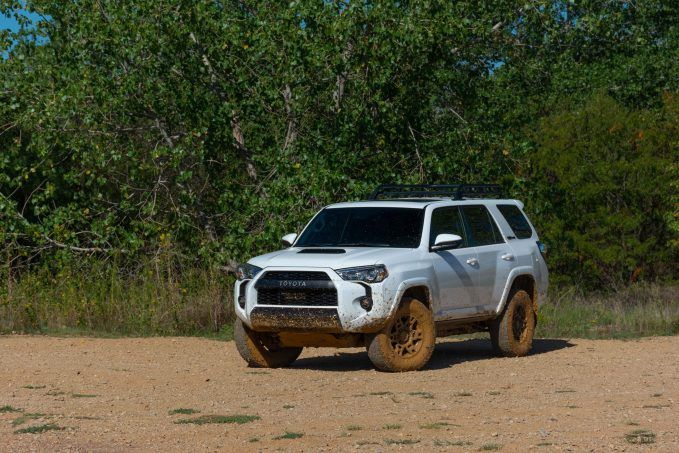car: (231, 196, 549, 370)
